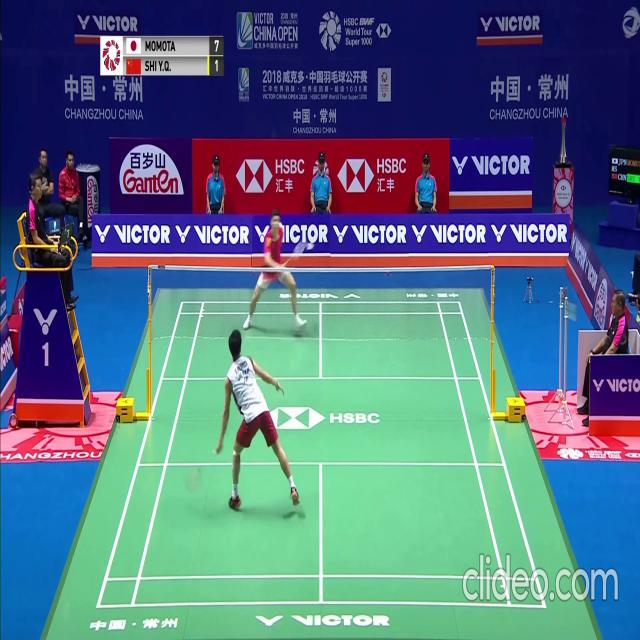Shuttlecock: (309, 241, 314, 248)
